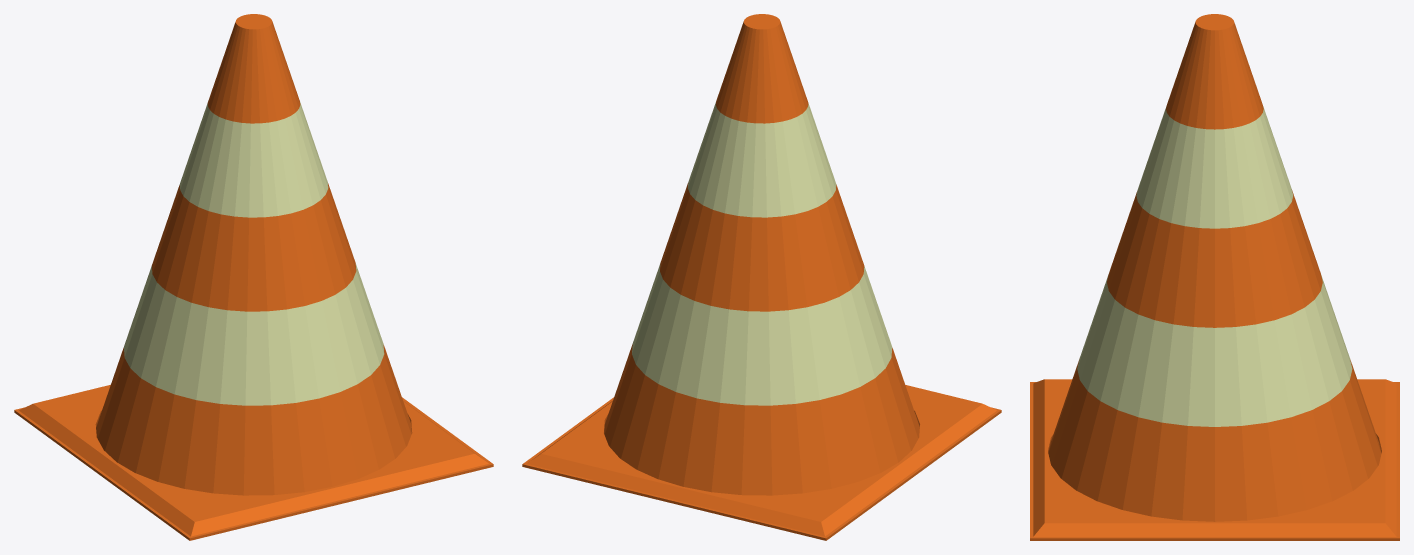
Rendered from TrafficCone2.fbx.
The picture shows the model from 3 angles, left to right: view 1: azimuth 30°, elevation 25°; view 2: azimuth 150°, elevation 25°; view 3: azimuth 270°, elevation 25°; orthographic projection. The views are drawn at different scales.
Parts seen in each view (by area): view 1: Cube; view 2: Cube; view 3: Cube.
Boxes of the visible parts, left/top/right/bottom form: Cube: left=14, top=14, right=493, bottom=540; Cube: left=522, top=14, right=1001, bottom=540; Cube: left=1030, top=14, right=1399, bottom=540.
Bounding box in the file's own units: 200 × 263 × 200.
